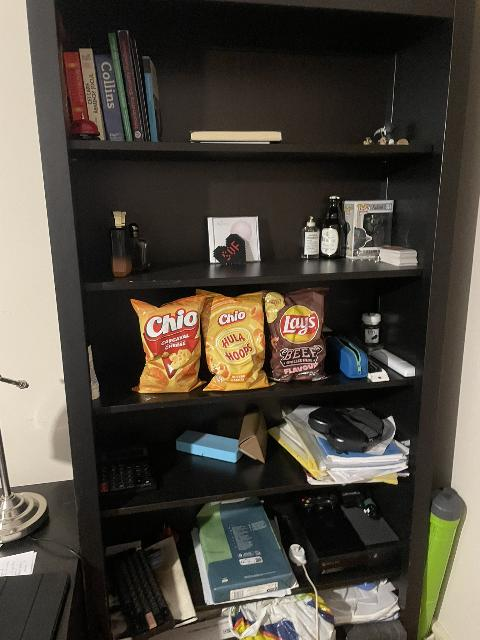Chio Cascaval 125g: (128, 294, 208, 395)
Chio Hula Hoops Cheese 70g: (198, 289, 272, 391)
Lays Beef Grilled Ribs 125g: (264, 286, 326, 381)
